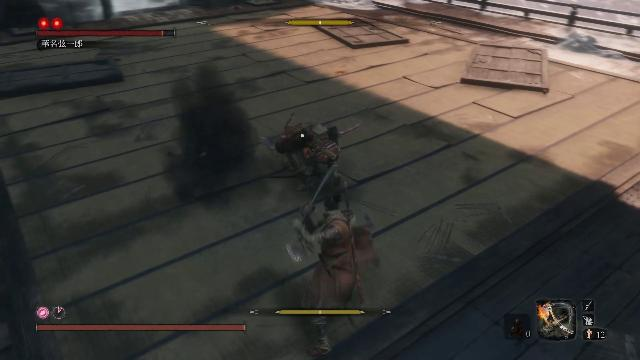sk: (293, 179, 379, 355)
